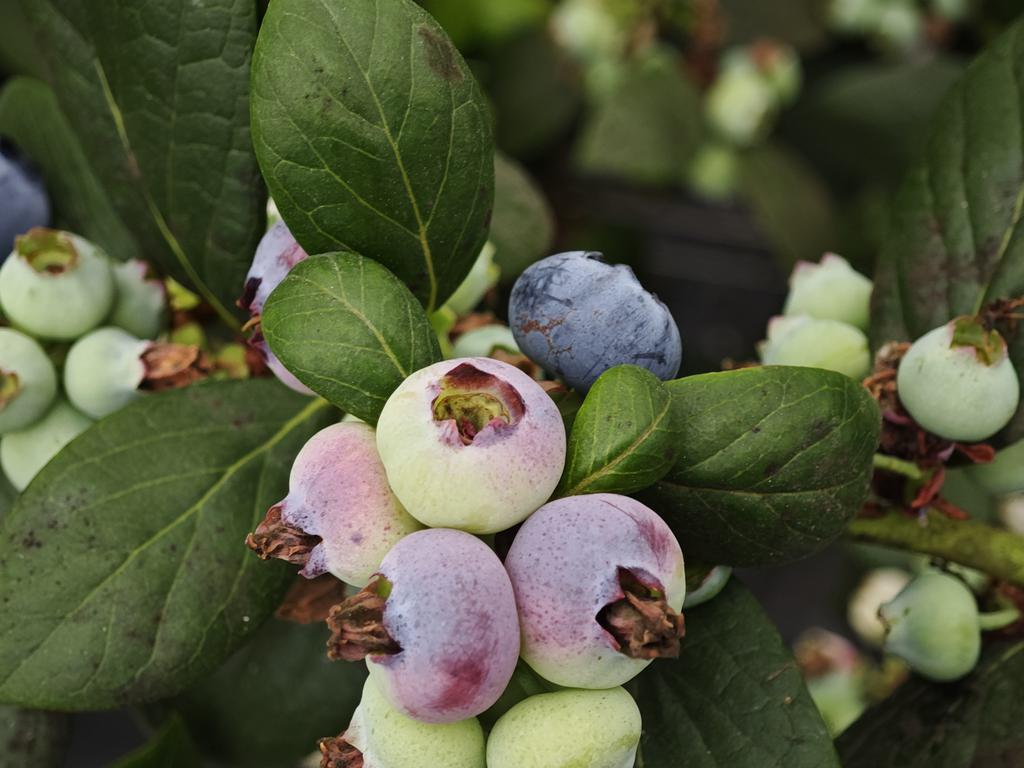RipeBlueBerry: (510, 247, 690, 389)
Semi-RipeBlueBerry: (510, 500, 689, 688), (378, 356, 564, 533), (381, 538, 519, 713), (286, 420, 391, 592)
UnripeBlueBerry: (903, 314, 1023, 446)
